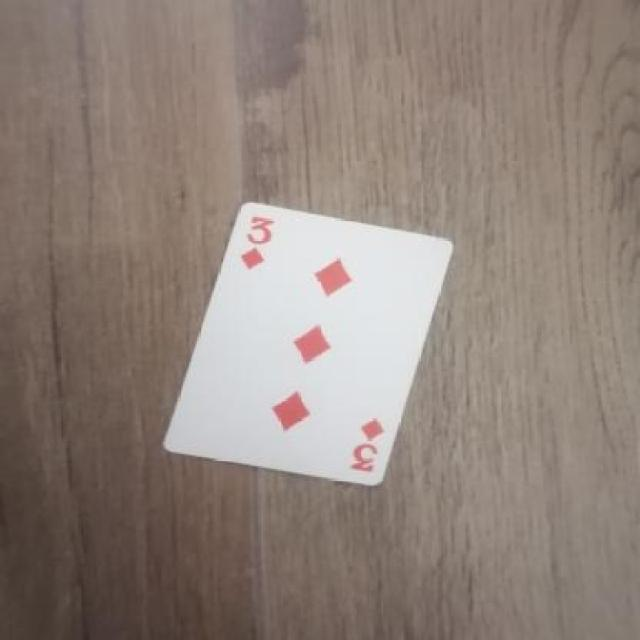3D: (322, 400, 409, 486), (218, 198, 284, 298)
